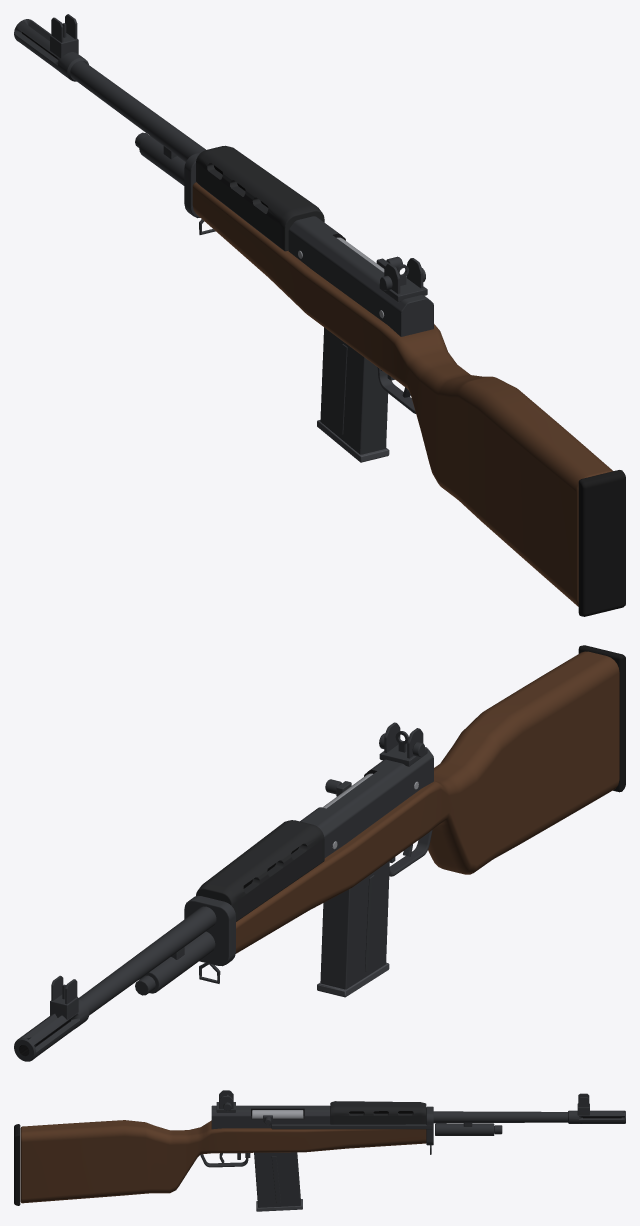
3 renders of one model, top to bottom at view 1: azimuth 30°, elevation 25°; view 2: azimuth 150°, elevation 25°; view 3: azimuth 270°, elevation 25°, orthographic. The views are drawn at different scales.
Visible parts, largest first — view 1: Body, Magazine; view 2: Body, Magazine; view 3: Body, Magazine.
Part boxes in pixels (x1,y1,x2,y2): Body: (14, 14, 625, 616); Magazine: (317, 327, 389, 462); Body: (14, 645, 625, 1061); Magazine: (317, 861, 389, 997); Body: (14, 1090, 625, 1205); Magazine: (254, 1152, 302, 1211).
Size of the model in its own units: 0.061 by 0.2069 by 1.
